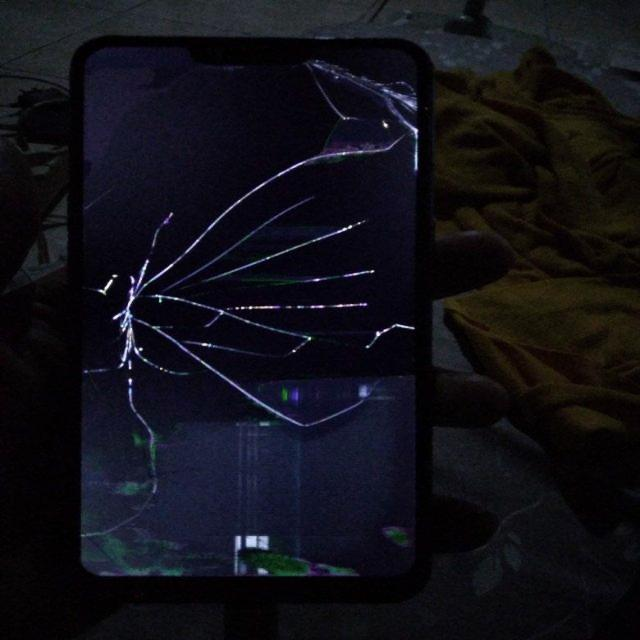phone: (72, 38, 436, 599)
